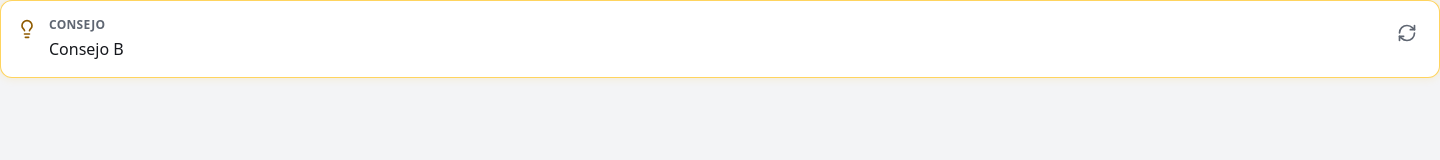
Test: tips › "Otro consejo" shows a different tip
Click the button named "Otro consejo".
click(1407, 33)  # box [1383,9,1431,57]
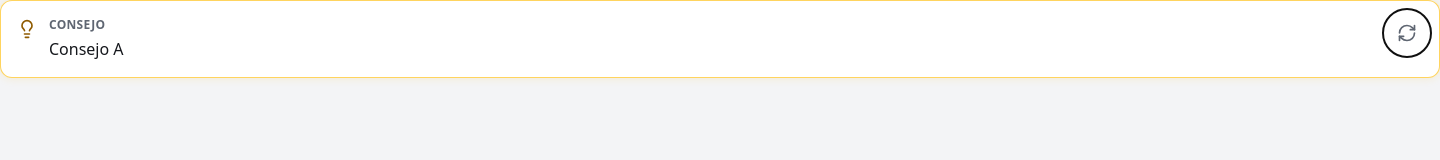
Result: the text "Consejo B" is gone
